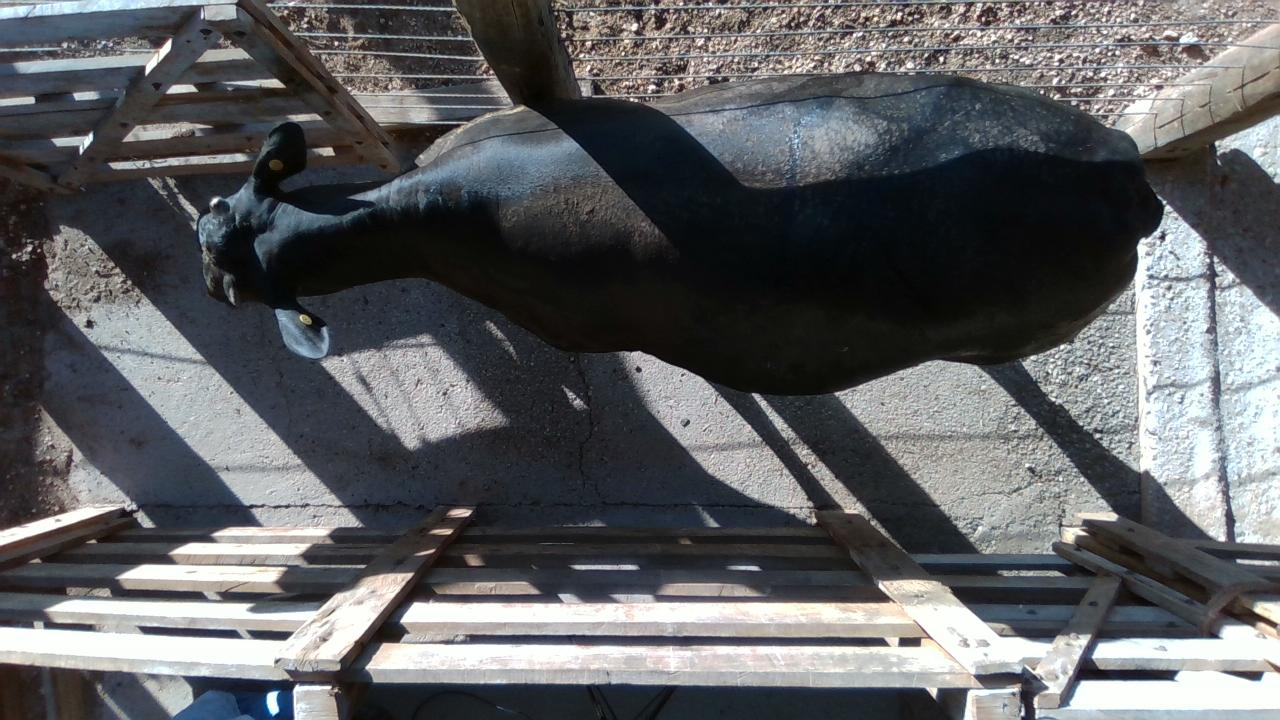cattle: (195, 70, 1164, 397)
